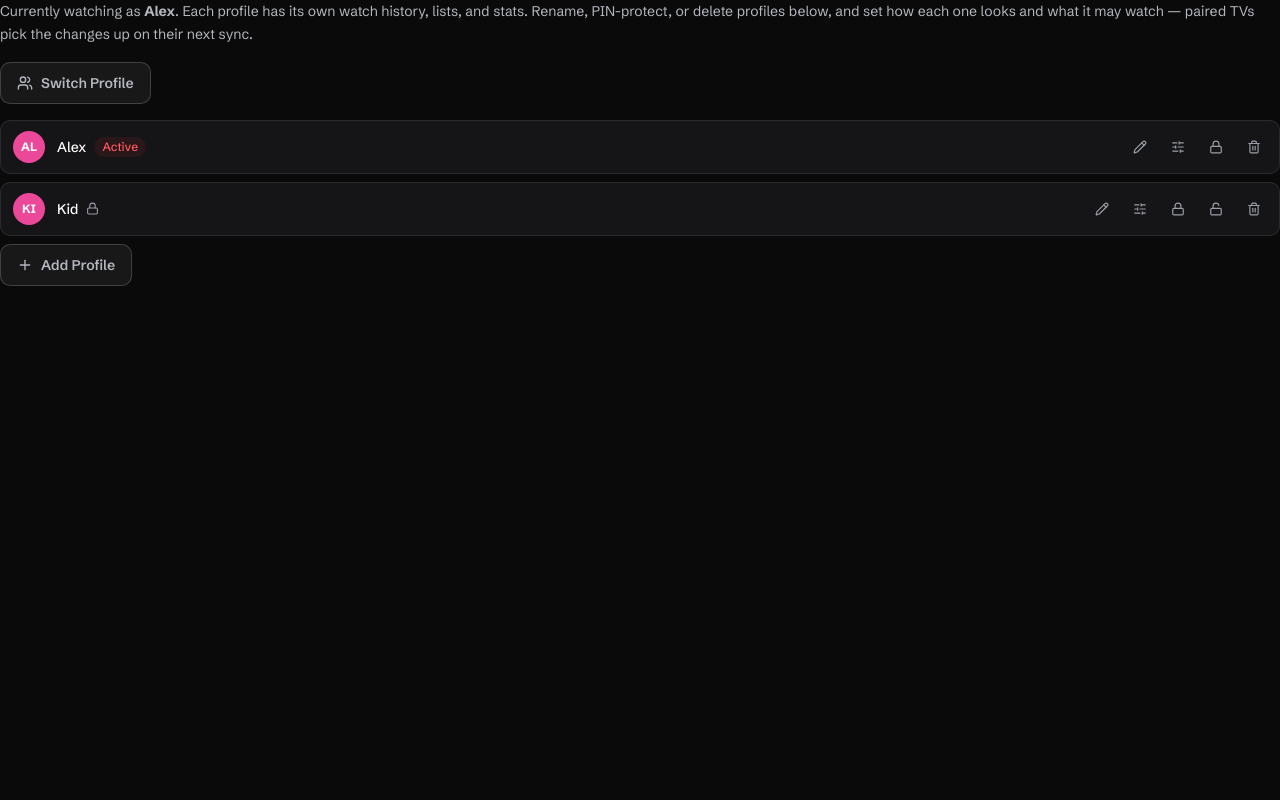
Test case: ProfileSettings deletion › names what goes with the profile before deleting it
The image size is (1280, 800).
Click the button named "Delete Kid": (1254, 208) [1241,196,1267,222]
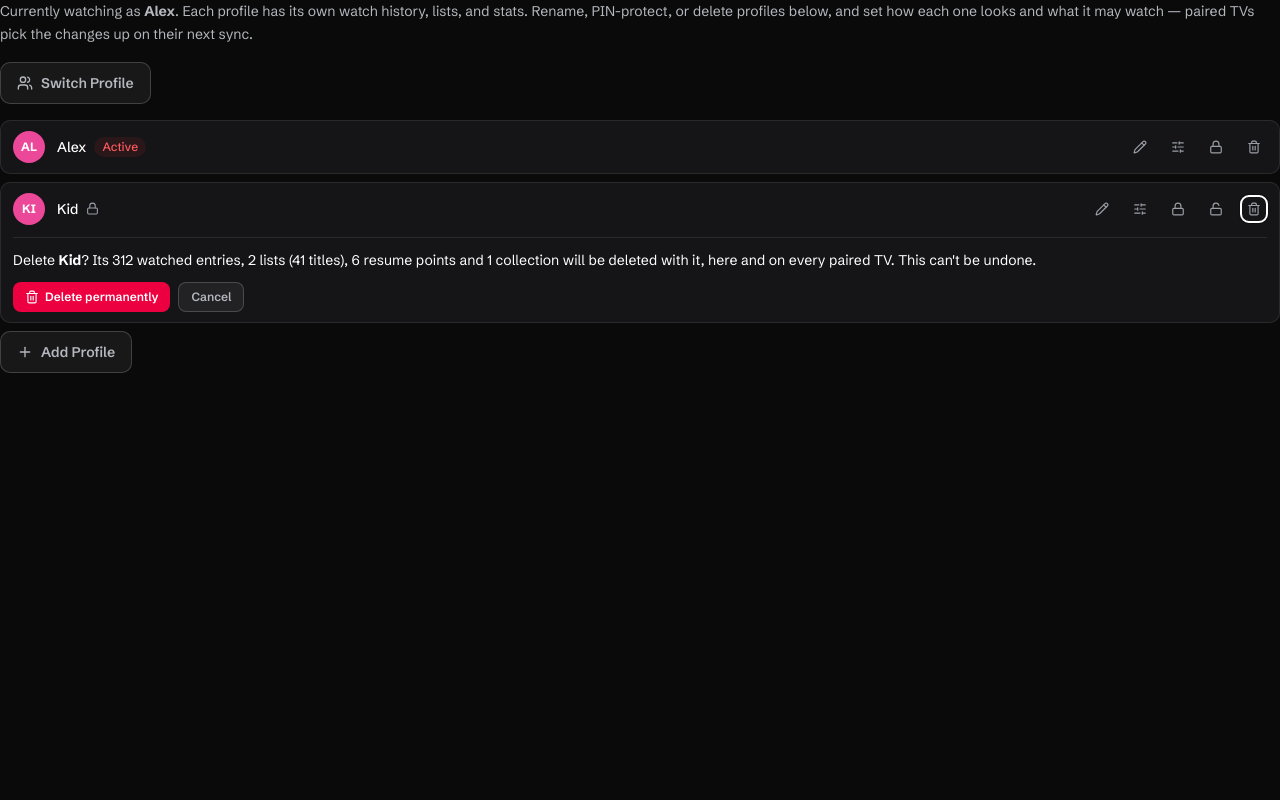
Click the button "Delete permanently": (92, 296) [13,282,170,312]
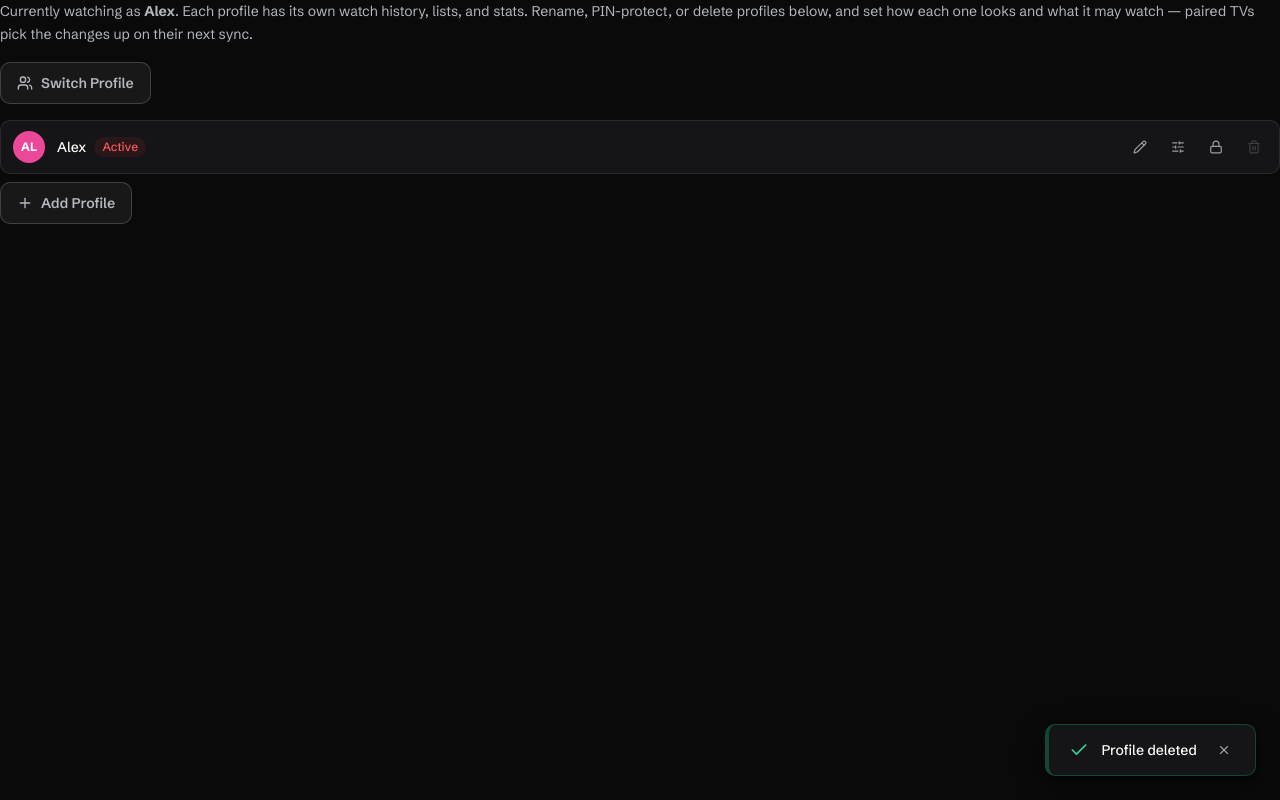
Result: the text "Kid" is gone
